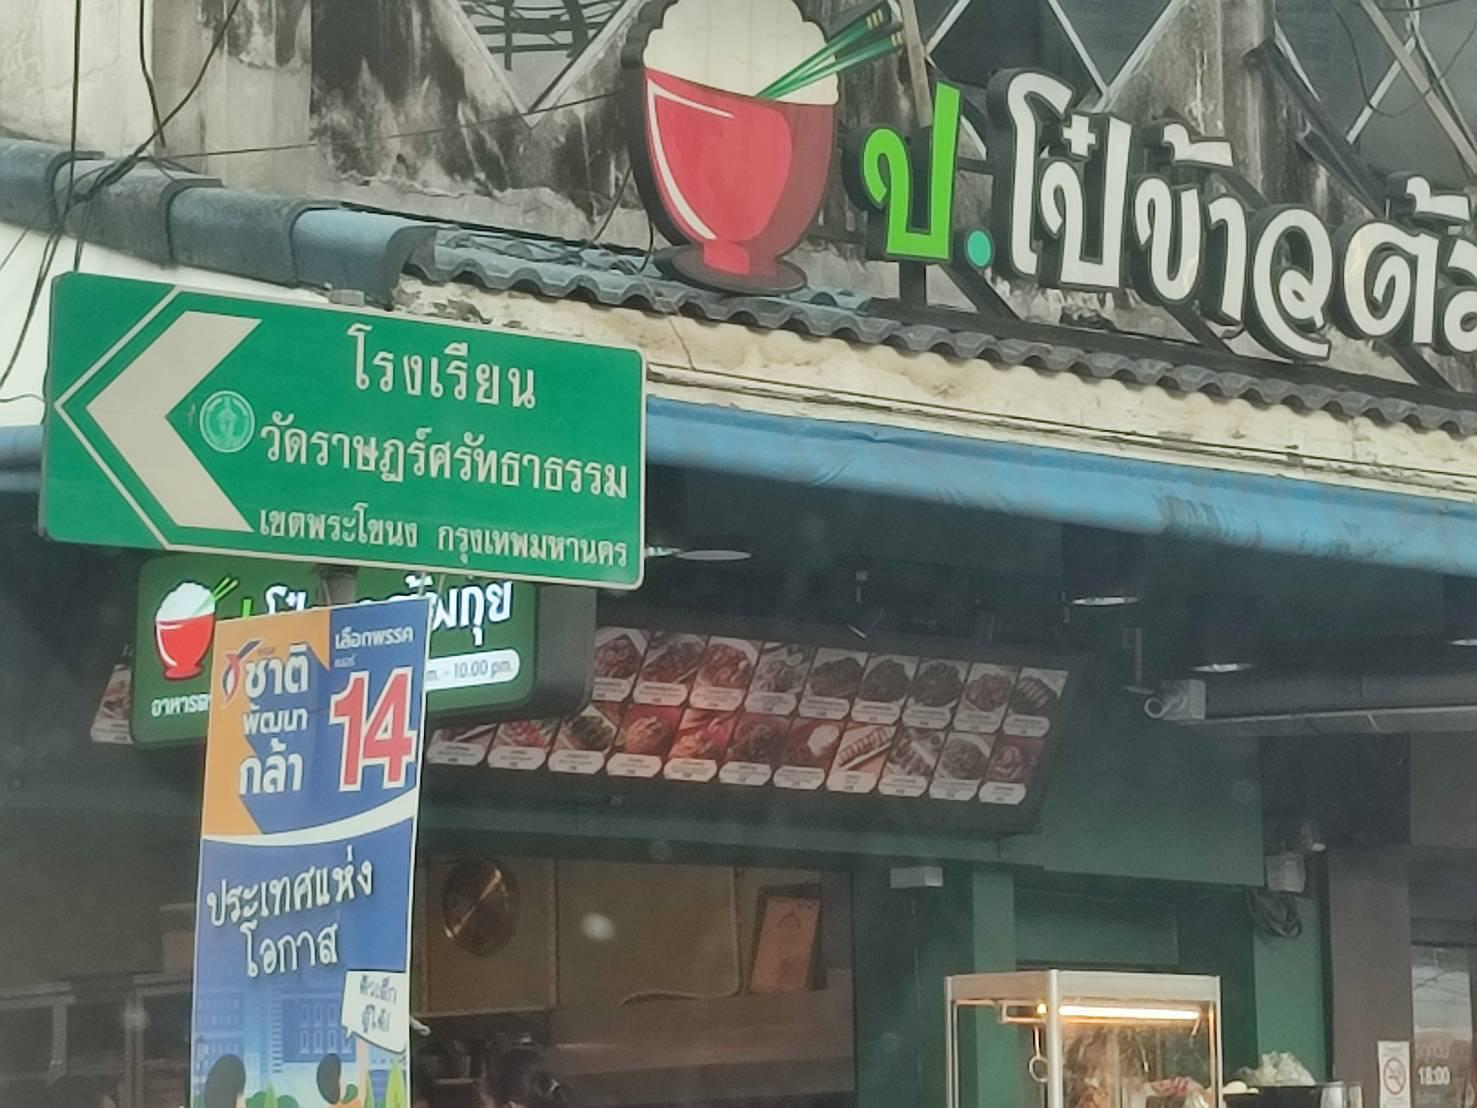Banner: (197, 592, 450, 1108)
